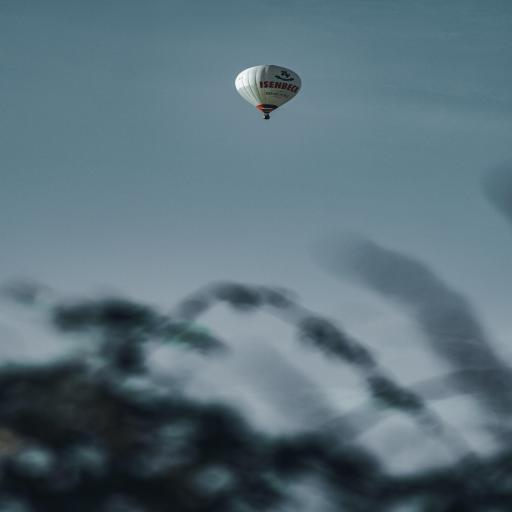hot air ballon: (235, 65, 302, 120)
